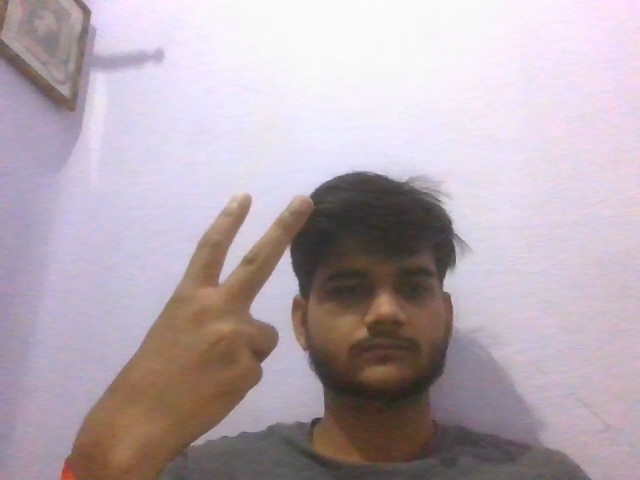yes: (73, 166, 318, 480)
